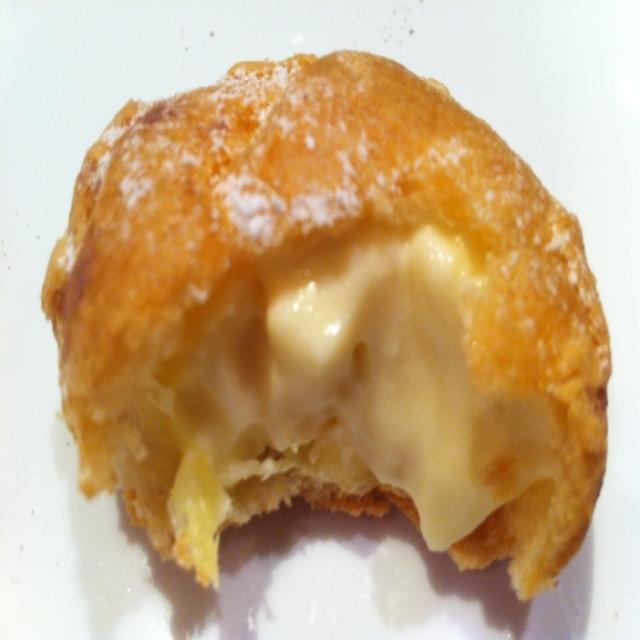炸货点心: (21, 28, 621, 624)
蛋糕甜品: (21, 28, 621, 624)
